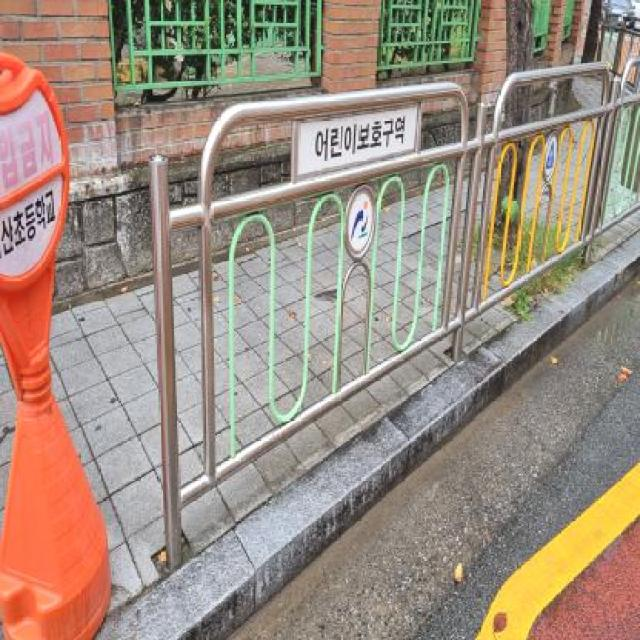fence: (142, 58, 482, 544), (472, 20, 640, 369)
